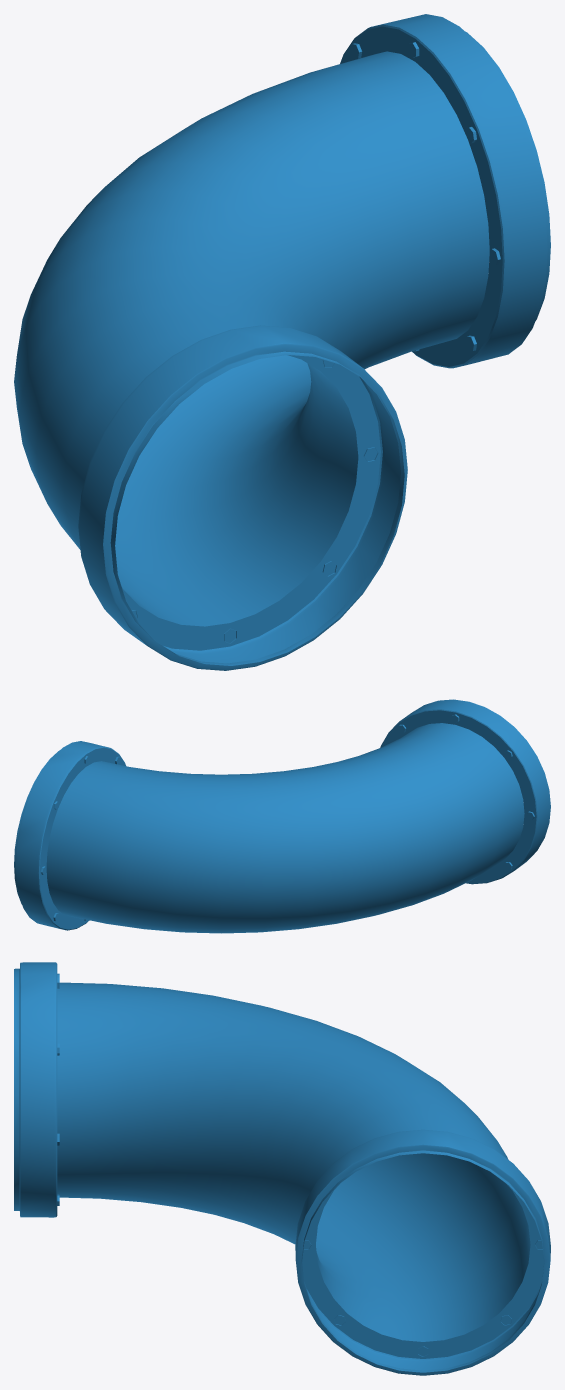
The model's file is Sub_CurvePipe_Pix_LOD1.fbx.
The picture shows the model from 3 angles, top to bottom: view 1: azimuth 30°, elevation 25°; view 2: azimuth 150°, elevation 25°; view 3: azimuth 270°, elevation 25°; orthographic projection. The views are drawn at different scales.
Parts seen in each view (by area): view 1: Sub_CurvePipe_Pix_LOD1; view 2: Sub_CurvePipe_Pix_LOD1; view 3: Sub_CurvePipe_Pix_LOD1.
Boxes of the visible parts, bbox=[...] form: Sub_CurvePipe_Pix_LOD1: bbox=[14, 14, 550, 670]; Sub_CurvePipe_Pix_LOD1: bbox=[14, 699, 550, 933]; Sub_CurvePipe_Pix_LOD1: bbox=[14, 962, 550, 1375].
Size of the model in its own units: 106 by 50.56 by 106.
